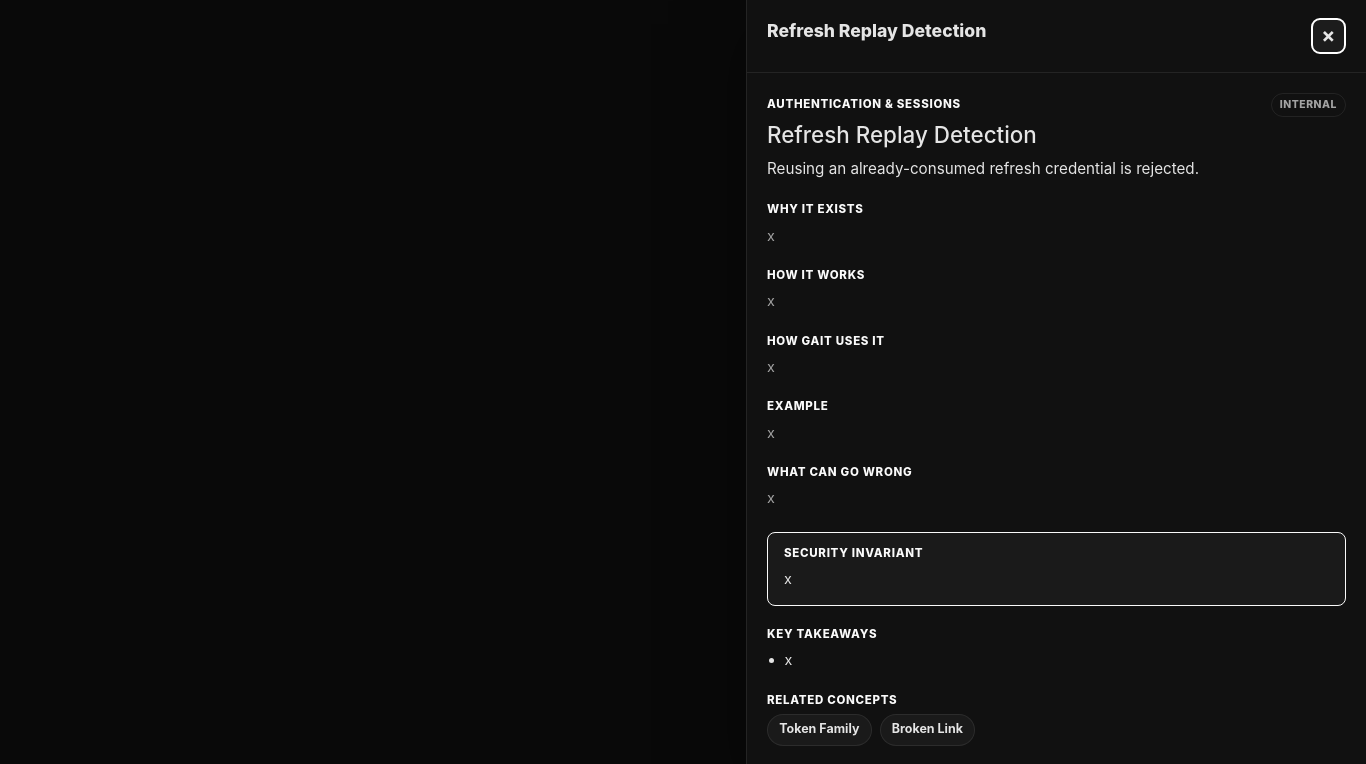
it: SecurityLearningDrawer › a broken related topic fails gracefully and keeps the current lesson visible
Expected: the heading "Refresh Replay Detection" is shown, [767,121,1037,148]
Click the button "Broken Link": (927, 730) [880,714,975,746]
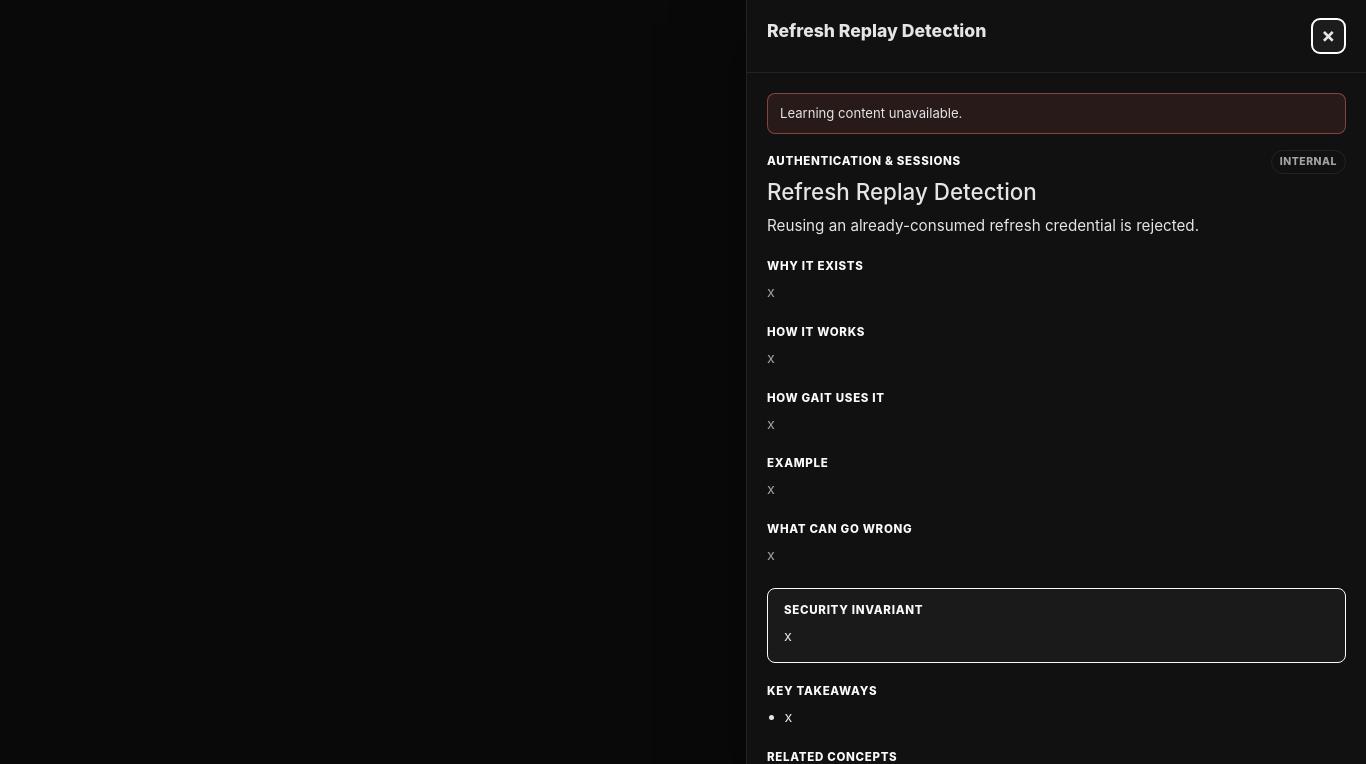
Expected: the heading "Refresh Replay Detection" is shown, [767,178,1037,205]
Now the text "Learning content unavailable." is shown, box [767,93,1346,134]
